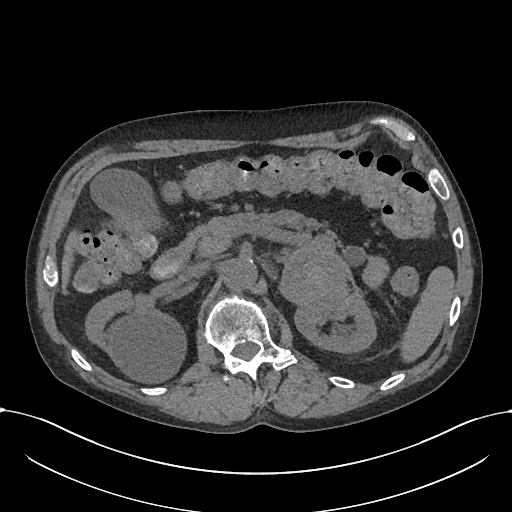Lesion: (276, 247, 363, 311)
